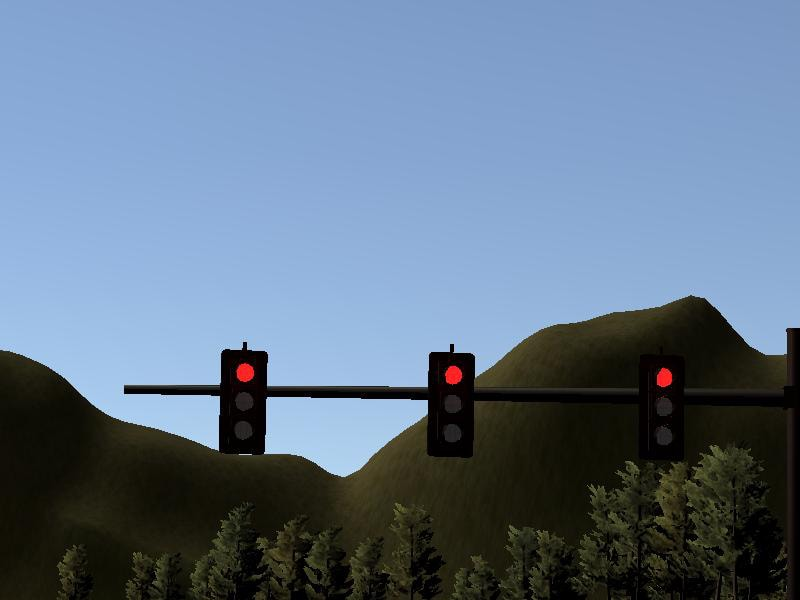red: (220, 351, 266, 455), (429, 352, 475, 456), (636, 354, 682, 458)
